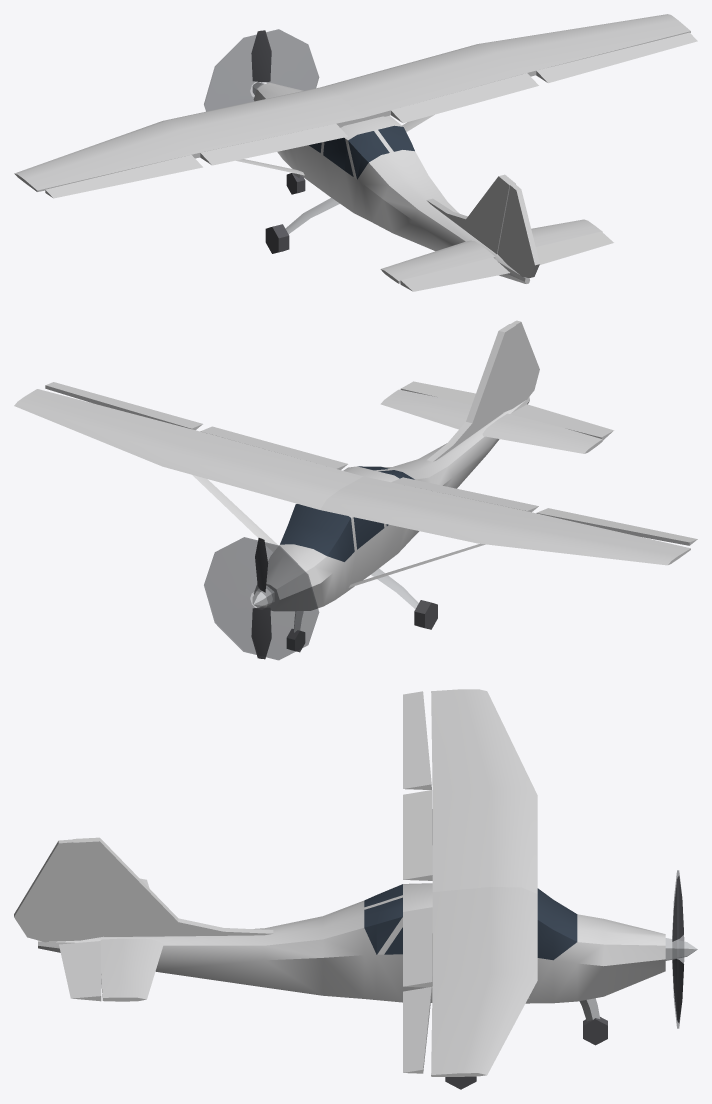
File: Cessna_172_LOD1.glb
3 views of the same model, one above another, from view 1: azimuth 30°, elevation 25°; view 2: azimuth 150°, elevation 25°; view 3: azimuth 270°, elevation 25° (orthographic). The views are drawn at different scales.
Visible parts, largest first — view 1: Fuselage, Wing_Right, Wing_Left, Propeller_Disc, Elevator, Rudder, VerticalTail, Flap_Right, Flap_Left, Aileron_Right, HorizontalTail_Left, Aileron_Left (+4 smaller); view 2: Fuselage, Wing_Right, Wing_Left, Propeller_Disc, VerticalTail, HorizontalTail_Left, Elevator, HorizontalTail_Right, Rudder, Aileron_Right, Propeller, Aileron_Left (+4 smaller); view 3: Fuselage, Wing_Left, Wing_Right, VerticalTail, Rudder, HorizontalTail_Right, Flap_Left, Aileron_Left, Flap_Right, Elevator, Aileron_Right, Propeller_Disc (+1 smaller).
Boxes of the visible parts, x1,y1,x2,y2 form: Fuselage: (253,83,529,283); Wing_Right: (321,14,690,120); Wing_Left: (14,87,363,191); Propeller_Disc: (204,29,319,111); Elevator: (400,231,613,291); Rudder: (497,184,539,277); VerticalTail: (426,174,515,254); Flap_Right: (391,73,538,123); Flap_Left: (200,124,347,165); Aileron_Right: (536,32,697,83); HorizontalTail_Left: (380,240,495,283); Aileron_Left: (45,155,202,198); Fuselage: (253,397,529,611); Wing_Right: (14,389,363,509); Wing_Left: (320,476,690,565); Propeller_Disc: (204,537,319,660); VerticalTail: (427,324,515,461); HorizontalTail_Left: (482,413,602,453); Elevator: (400,381,613,440); HorizontalTail_Right: (380,389,471,429); Rudder: (503,320,539,412); Aileron_Right: (45,382,202,430); Propeller: (251,538,271,659); Aileron_Left: (536,508,697,545); Fuselage: (38,883,665,1003); Wing_Left: (431,689,537,893); Wing_Right: (431,887,537,1076); VerticalTail: (73,837,273,936); Rudder: (14,839,103,942); HorizontalTail_Right: (100,938,163,1001); Flap_Left: (403,790,432,880); Aileron_Left: (403,691,431,789); Flap_Right: (403,907,432,987); Elevator: (59,941,101,1001); Aileron_Right: (403,987,431,1073); Propeller_Disc: (672,870,684,1028).
Bounding box in the file's own units: 11 × 2.72 × 8.28.
